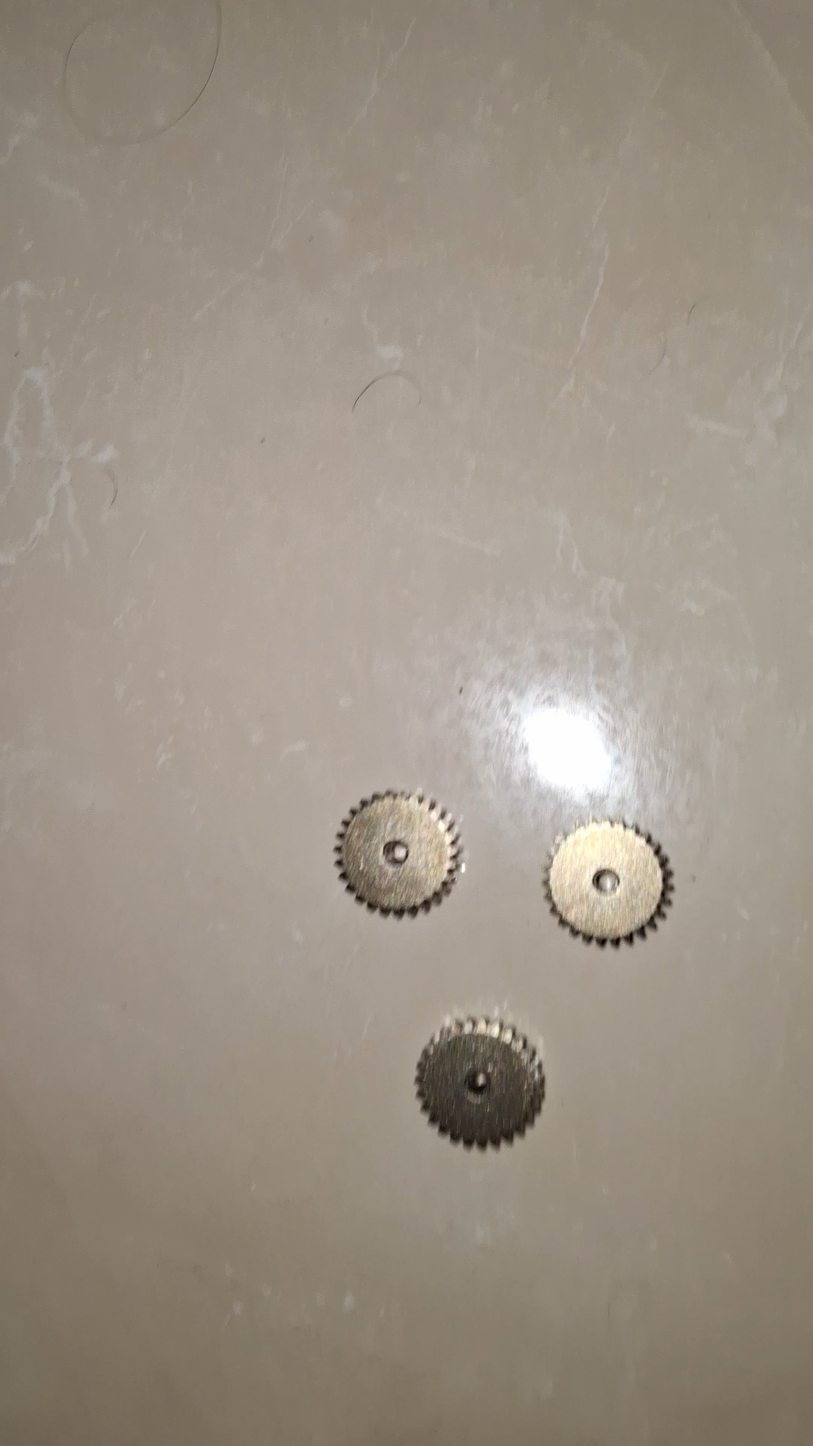spur gear: (416, 1017, 544, 1148), (544, 821, 672, 946), (335, 792, 458, 916)
